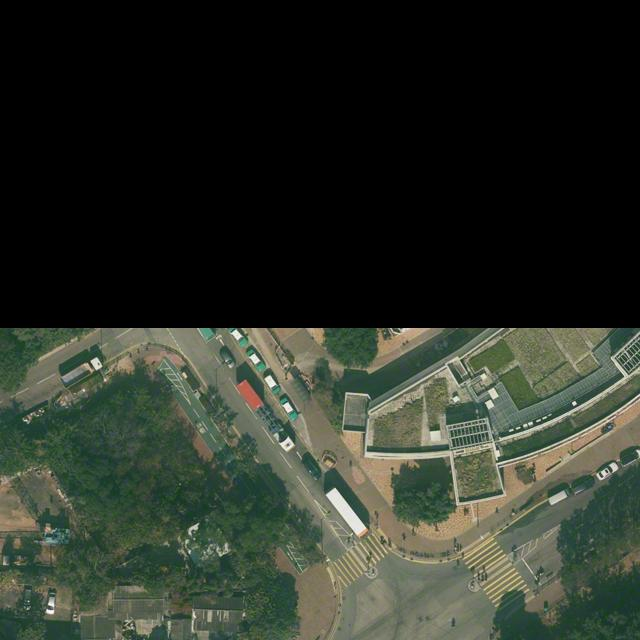panel: (447, 418, 492, 449), (618, 349, 639, 373)
